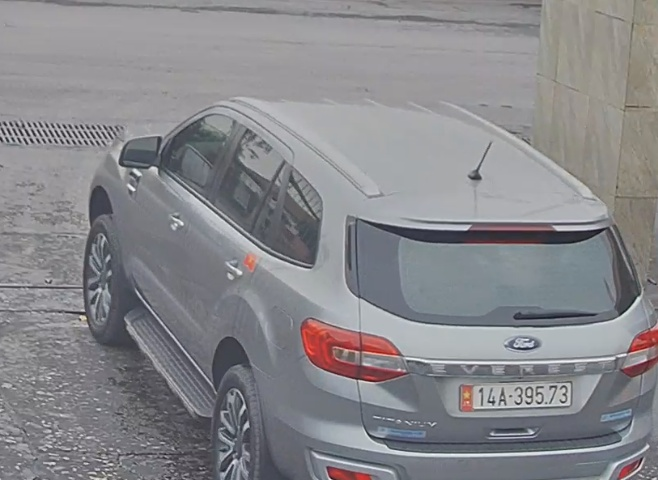vehicle plate: (455, 378, 580, 408)
